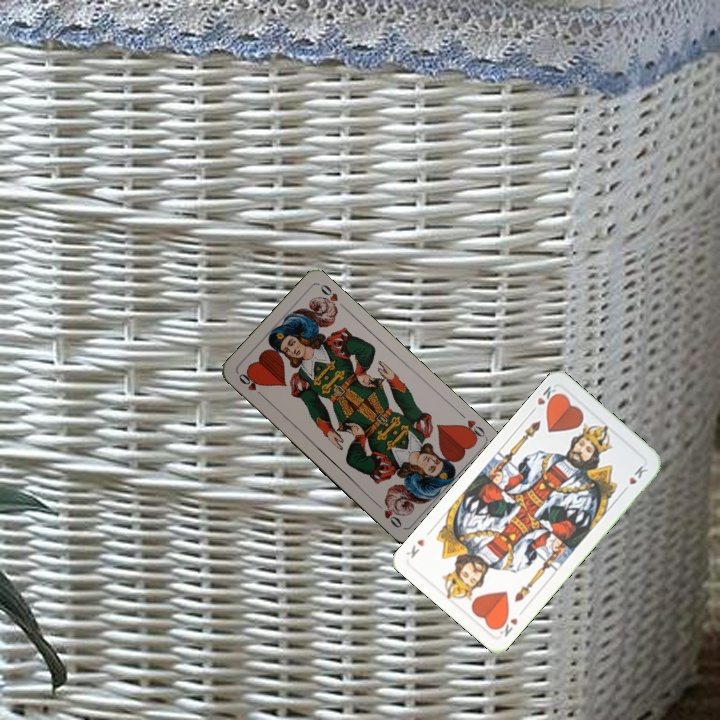HK: (526, 382, 562, 416), (492, 611, 520, 640)
HO: (455, 408, 488, 443), (234, 369, 267, 401)
